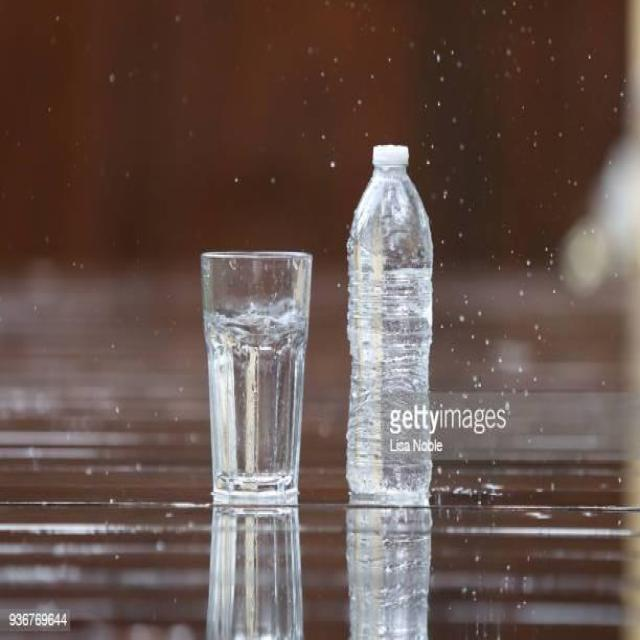bottle: (339, 132, 442, 510)
